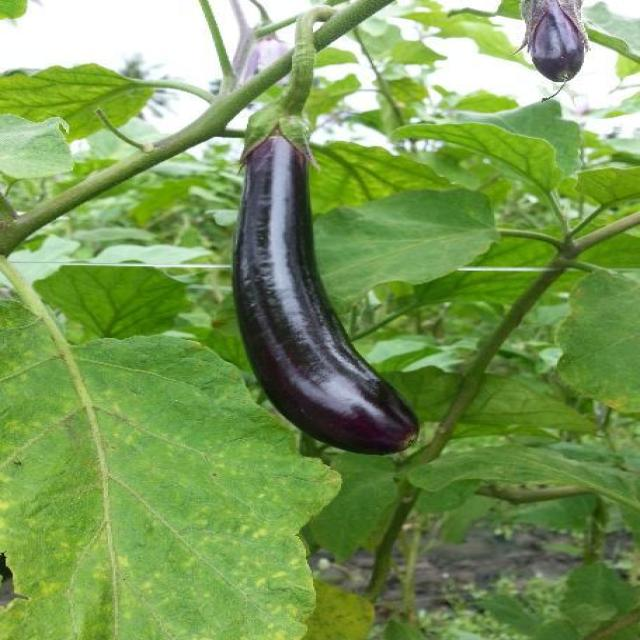eggplant: (226, 108, 442, 456), (510, 3, 588, 90)
